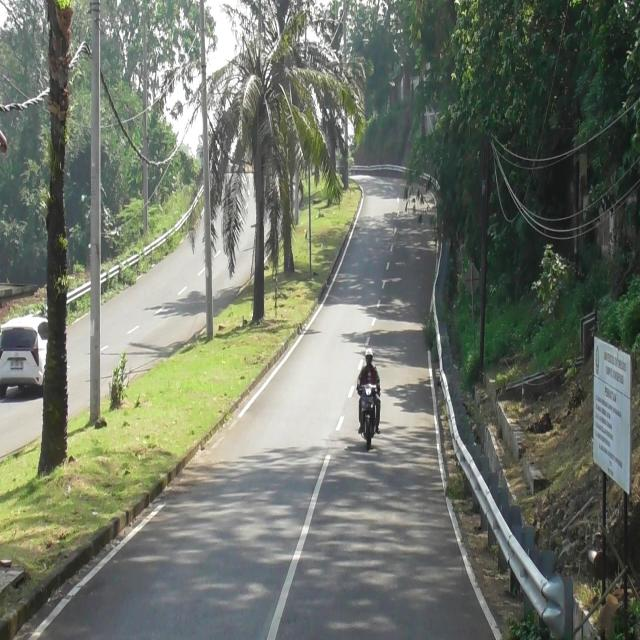motorcycle: (359, 380, 379, 451)
person: (356, 348, 382, 399)
rider_region: (358, 347, 381, 451)
